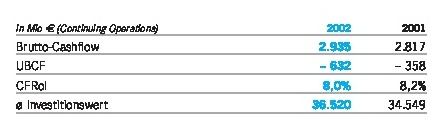table: (0, 0, 442, 128)
